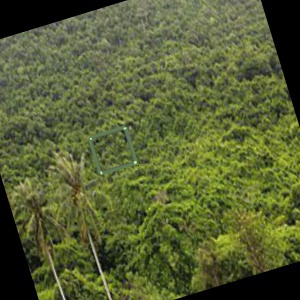square: (86, 126, 141, 176)
